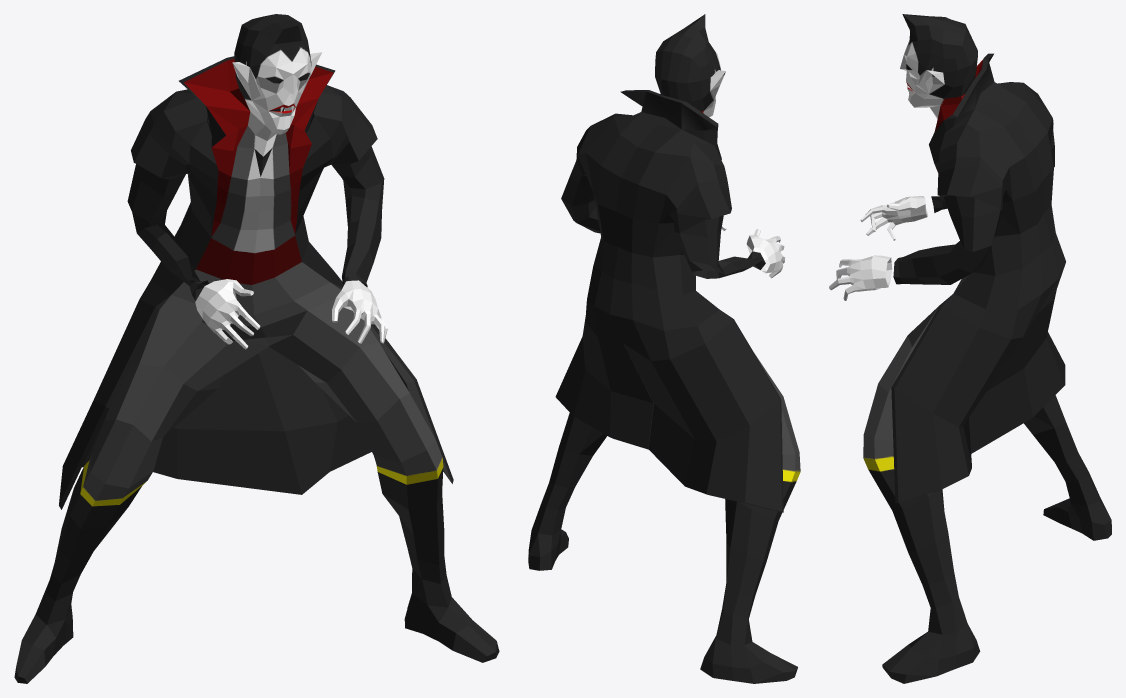
File: VampireAttack(122).obj
3 views of the same model, side by side, from view 1: azimuth 30°, elevation 25°; view 2: azimuth 150°, elevation 25°; view 3: azimuth 270°, elevation 25° (orthographic). The views are drawn at different scales.
Visible parts, largest first — view 1: Plane002; view 2: Plane002; view 3: Plane002.
Boxes of the visible parts, x1,y1,x2,y2 form: Plane002: (14, 14, 499, 683); Plane002: (528, 14, 800, 683); Plane002: (829, 14, 1111, 683).
Bounding box in the file's own units: 73.43 × 120 × 52.59.
